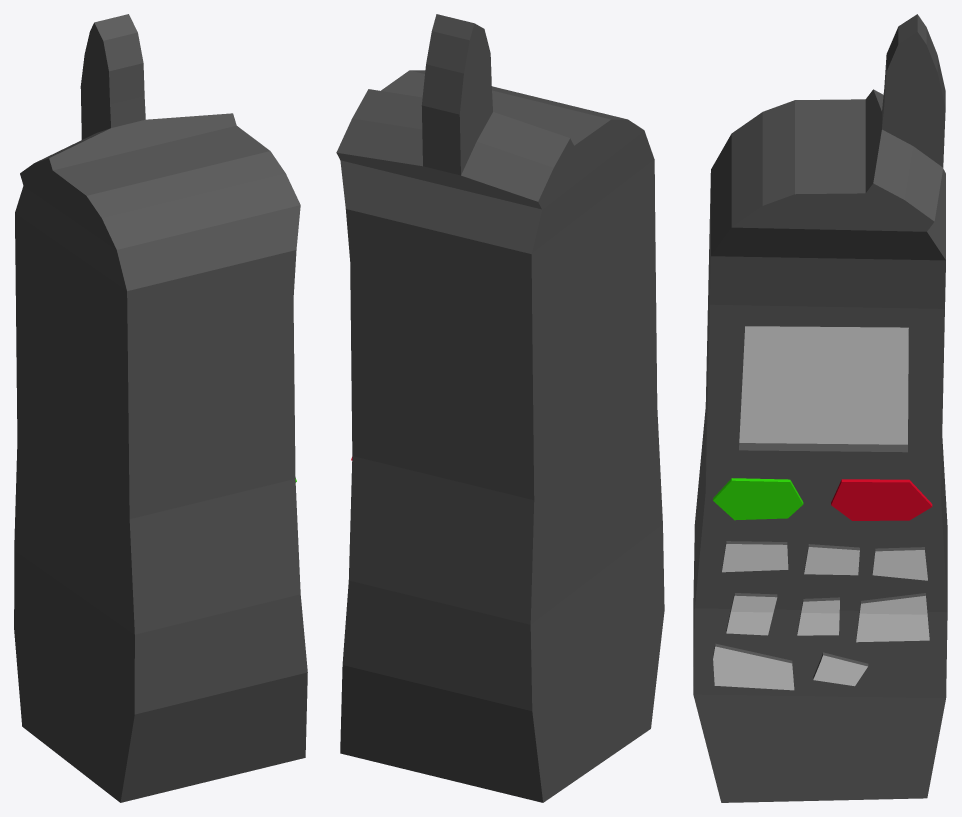
The model's file is Phone.fbx.
3 renders of one model, left to right at view 1: azimuth 30°, elevation 25°; view 2: azimuth 150°, elevation 25°; view 3: azimuth 270°, elevation 25°, orthographic. The views are drawn at different scales.
Parts seen in each view (by area): view 1: Cube; view 2: Cube; view 3: Cube.
Part boxes in pixels (x1,y1,x2,y2): Cube: [14, 14, 307, 802]; Cube: [336, 14, 664, 802]; Cube: [693, 14, 947, 802].
Bounding box in the file's own units: 89.48 × 321 × 102.
